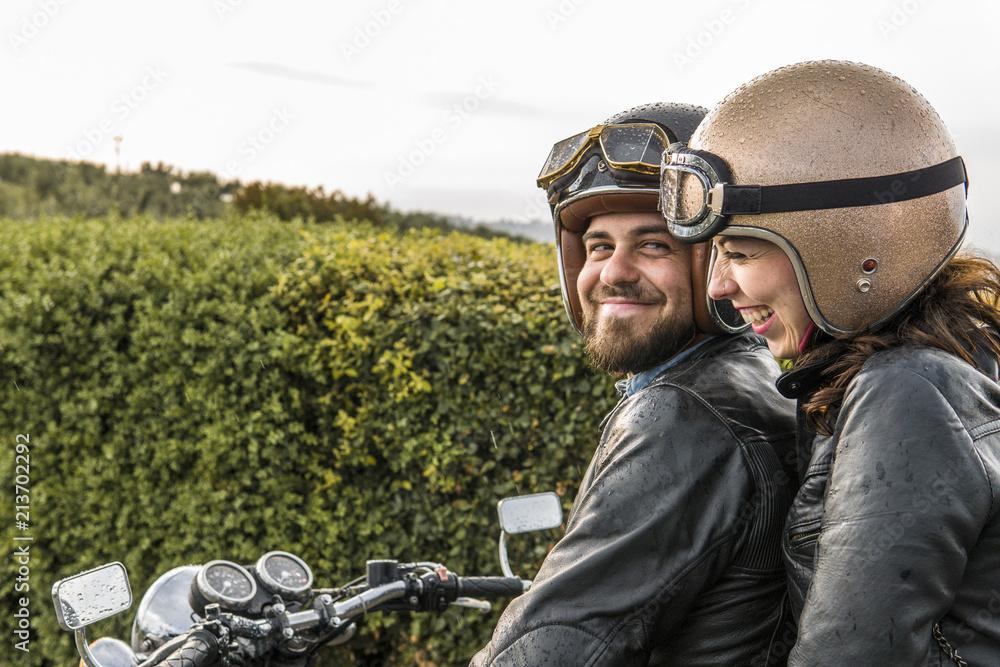helmet: (659, 56, 970, 400), (535, 99, 803, 377)
